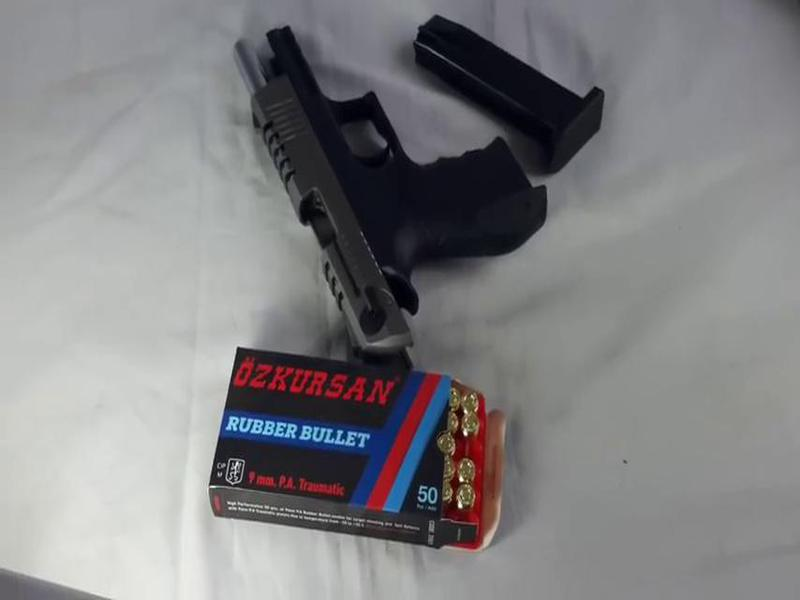Pistola: (220, 10, 577, 387)
